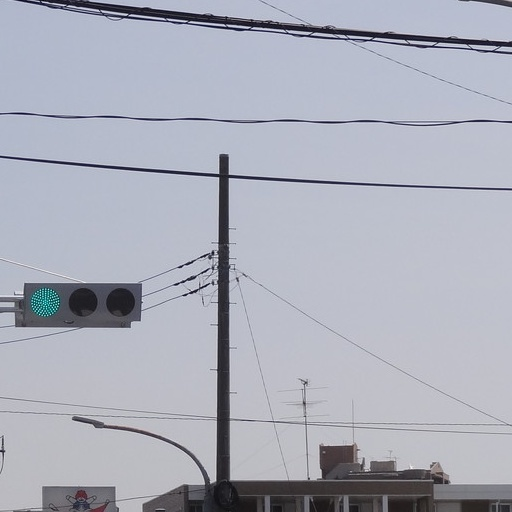Traffic_Signal_Blue: (21, 276, 150, 326)
